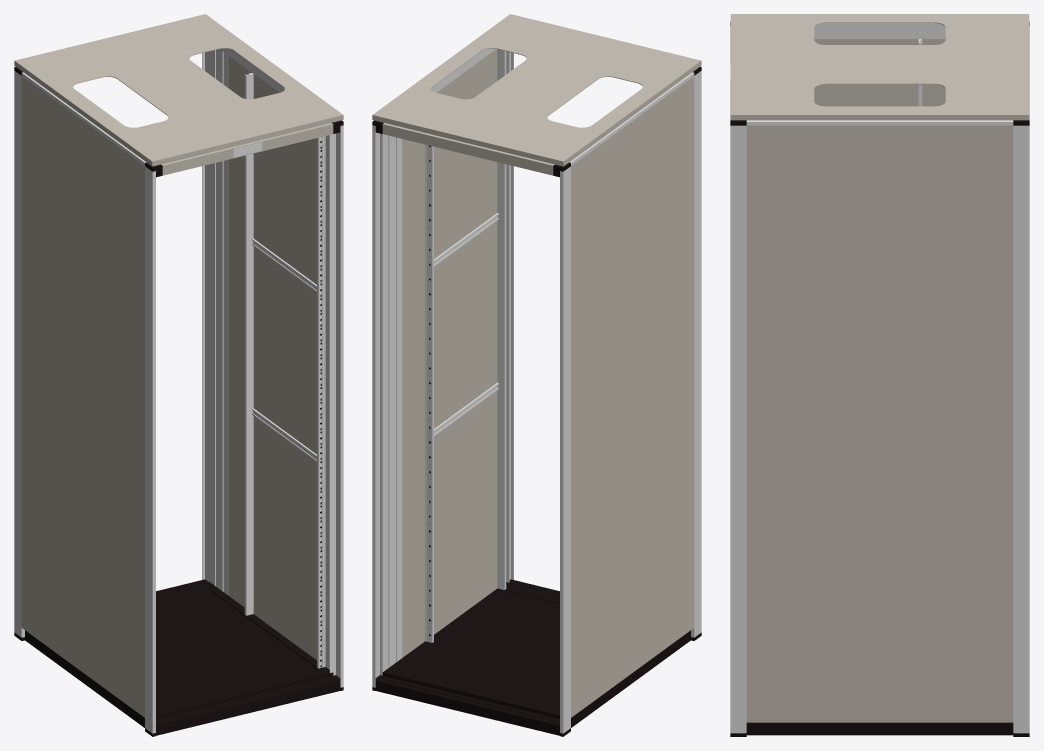
The model's file is RACK_36U.glb.
3 views of the same model, side by side, from view 1: azimuth 30°, elevation 25°; view 2: azimuth 150°, elevation 25°; view 3: azimuth 270°, elevation 25° (orthographic). The views are drawn at different scales.
Parts seen in each view (by area): view 1: Rack089, Rectangle050; view 2: Rack089, Rectangle050; view 3: Rack089, Rectangle050.
Boxes of the visible parts, x1=… form: Rack089: x1=14, y1=14, x2=343, y2=736; Rectangle050: x1=25, y1=579, x2=340, y2=735; Rack089: x1=372, y1=14, x2=701, y2=736; Rectangle050: x1=375, y1=579, x2=690, y2=735; Rack089: x1=730, y1=14, x2=1029, y2=736; Rectangle050: x1=746, y1=722, x2=1013, y2=735.
Bounding box in the file's own units: 0.6 × 1.73 × 0.753.
Materials: 5 (2 with a texture image).
